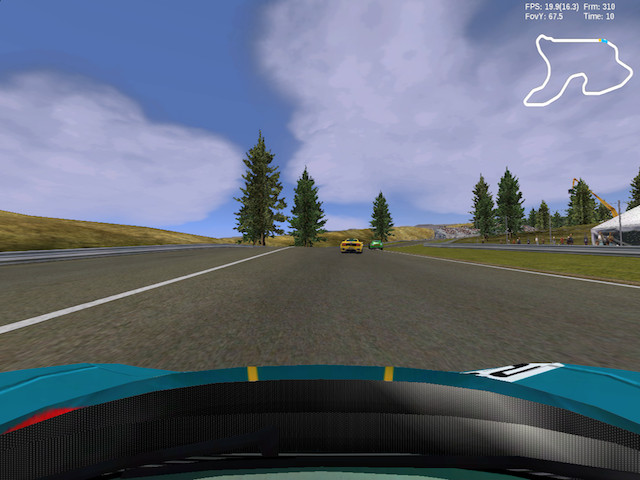Boxer96: (369, 240, 384, 251)
Cavallo360: (339, 238, 364, 255)
